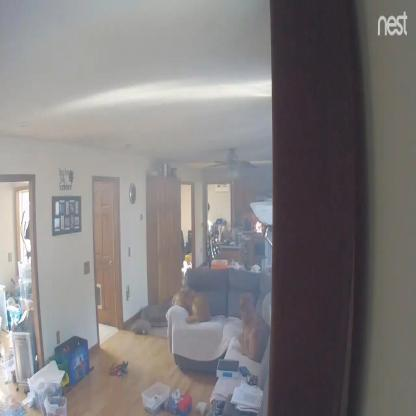fire: (256, 222, 262, 233)
